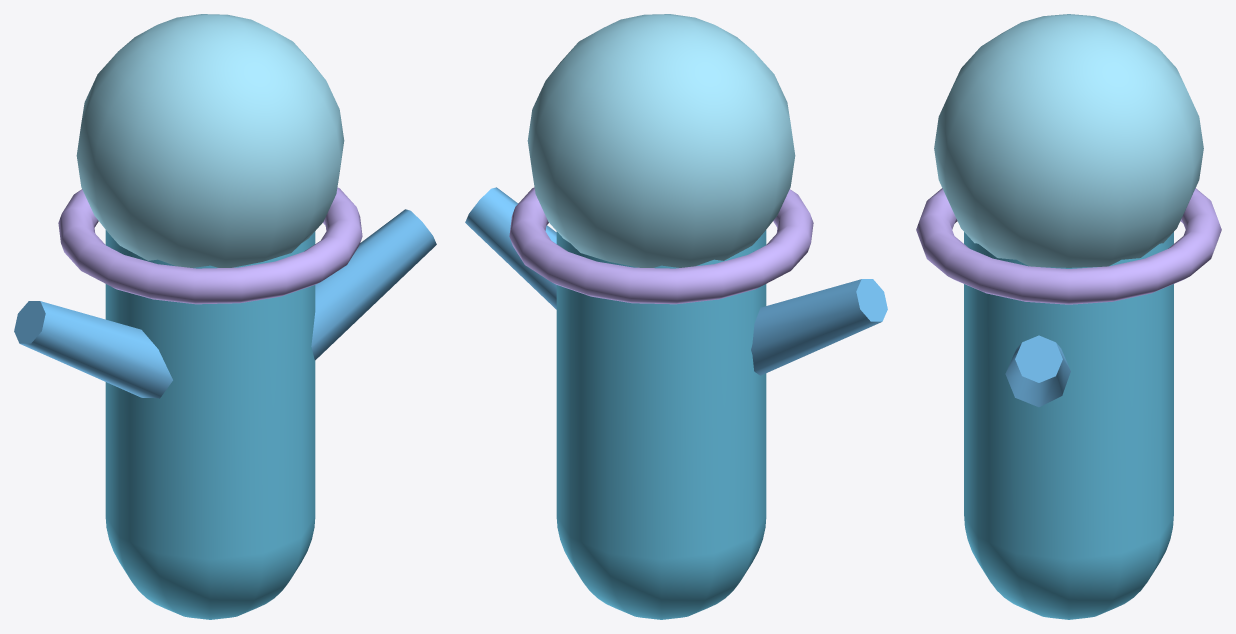
File: alien.glb
3 renders of one model, left to right at view 1: azimuth 30°, elevation 25°; view 2: azimuth 150°, elevation 25°; view 3: azimuth 270°, elevation 25°, orthographic.
Bounding box in the file's own units: 1.59 × 2.15 × 1.02.
